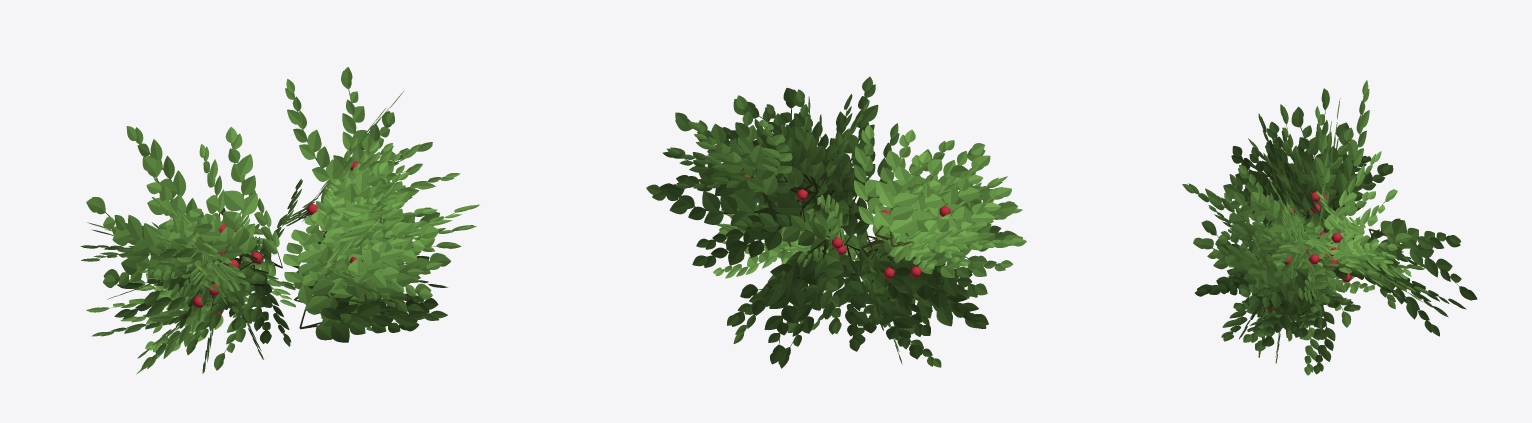
Rendered from berry_bush_1_mid.glb.
3 views of the same model, side by side, from view 1: azimuth 30°, elevation 25°; view 2: azimuth 150°, elevation 25°; view 3: azimuth 270°, elevation 25° (orthographic). The views are drawn at different scales.
Parts seen in each view (by area): view 1: berry_bush_1_mid; view 2: berry_bush_1_mid; view 3: berry_bush_1_mid.
Part boxes in pixels (bbox=[...]): berry_bush_1_mid: bbox=[80, 67, 479, 374]; berry_bush_1_mid: bbox=[646, 76, 1026, 368]; berry_bush_1_mid: bbox=[1182, 80, 1477, 375].
Size of the model in its own units: 3.28 by 2.14 by 2.63.
2 materials, 1 textured.
